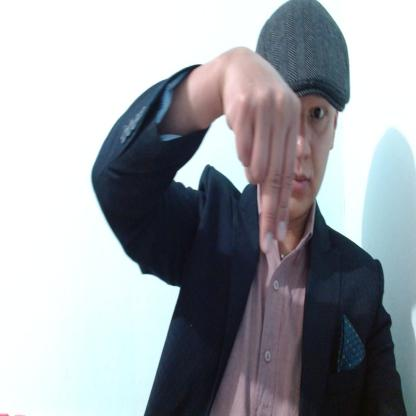N: (222, 46, 301, 254)
